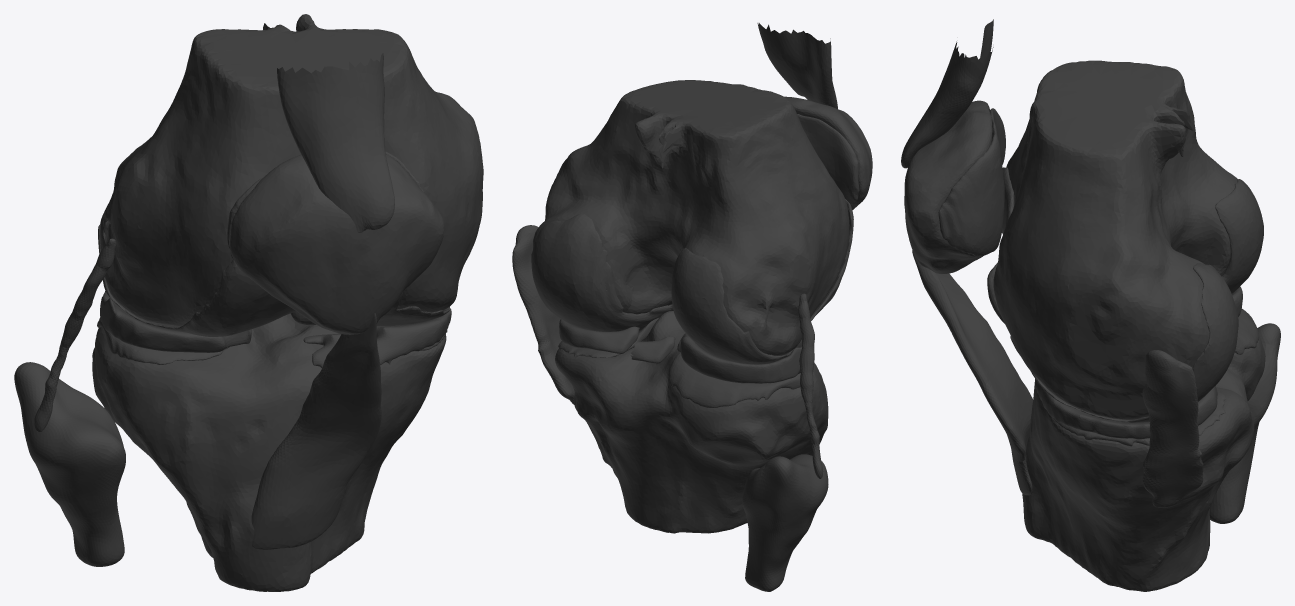
The model's file is knee-invivo-3t.glb.
The picture shows the model from 3 angles, left to right: view 1: azimuth 30°, elevation 25°; view 2: azimuth 150°, elevation 25°; view 3: azimuth 270°, elevation 25°; orthographic projection. The views are drawn at different scales.
Visible parts, largest first — view 1: Femur, Tibia, Patella, PatellarTendon, QuadricepsTendon, Fibula, FemoralCartilage, LateralMeniscus, LCL, MedialMeniscus, LateralTibialCartilage, BucketHandleFragment; view 2: Femur, Tibia, FemoralCartilage, Fibula, QuadricepsTendon, MCL, LateralTibialCartilage, LateralMeniscus, PatellarCartilage, Patella, LCL, MedialMeniscus (+2 smaller); view 3: Femur, Tibia, FemoralCartilage, Patella, MCL, PatellarTendon, PatellarCartilage, QuadricepsTendon, Fibula, MedialMeniscus, MedialTibialCartilage, LateralTibialCartilage.
Boxes of the visible parts, <box> form: Femur: <box>100,14,483,325</box>; Tibia: <box>92,313,446,591</box>; Patella: <box>230,154,444,334</box>; PatellarTendon: <box>251,313,381,549</box>; QuadricepsTendon: <box>277,53,394,232</box>; Fibula: <box>14,362,125,566</box>; FemoralCartilage: <box>98,146,449,336</box>; LateralMeniscus: <box>100,291,251,352</box>; LCL: <box>34,238,116,431</box>; MedialMeniscus: <box>376,306,451,364</box>; LateralTibialCartilage: <box>97,317,229,364</box>; BucketHandleFragment: <box>303,333,341,368</box>; Femur: <box>533,80,849,355</box>; Tibia: <box>555,311,828,533</box>; FemoralCartilage: <box>531,199,853,364</box>; Fibula: <box>742,454,828,591</box>; QuadricepsTendon: <box>757,23,837,108</box>; MCL: <box>512,225,574,404</box>; LateralTibialCartilage: <box>668,352,800,407</box>; LateralMeniscus: <box>677,333,801,383</box>; PatellarCartilage: <box>797,114,859,204</box>; Patella: <box>784,96,872,209</box>; LCL: <box>798,293,823,478</box>; MedialMeniscus: <box>559,319,639,353</box>; Femur: <box>993,60,1237,419</box>; Tibia: <box>1022,335,1265,591</box>; FemoralCartilage: <box>987,167,1263,422</box>; Patella: <box>904,100,992,273</box>; MCL: <box>1142,350,1203,507</box>; PatellarTendon: <box>912,250,1032,495</box>; PatellarCartilage: <box>938,108,1005,256</box>; QuadricepsTendon: <box>901,19,993,168</box>; Fibula: <box>1209,323,1280,523</box>; MedialMeniscus: <box>1035,381,1217,439</box>; MedialTibialCartilage: <box>1053,389,1225,446</box>; LateralTibialCartilage: <box>1235,308,1258,354</box>.
Bounding box in the file's own units: 4.33 × 5.89 × 3.83.
1 material, 1 textured.
